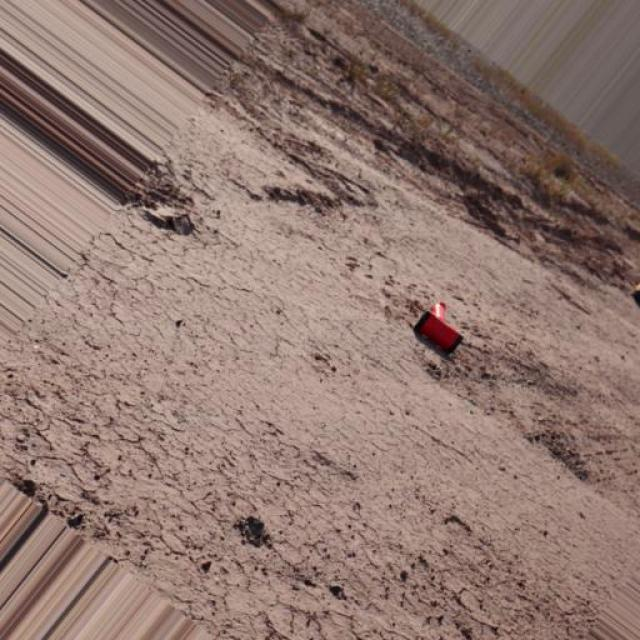mallet: (412, 300, 462, 355)
